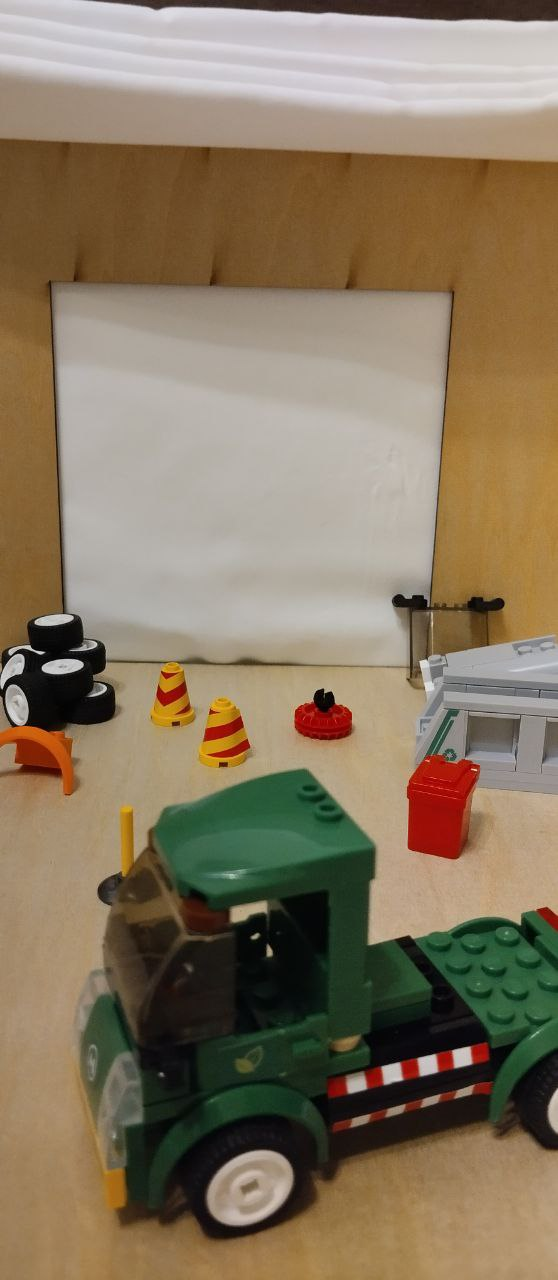Cone: (194, 695, 255, 770), (144, 662, 198, 730)
Object Red: (401, 751, 488, 859)
Truck: (69, 763, 558, 1248)
